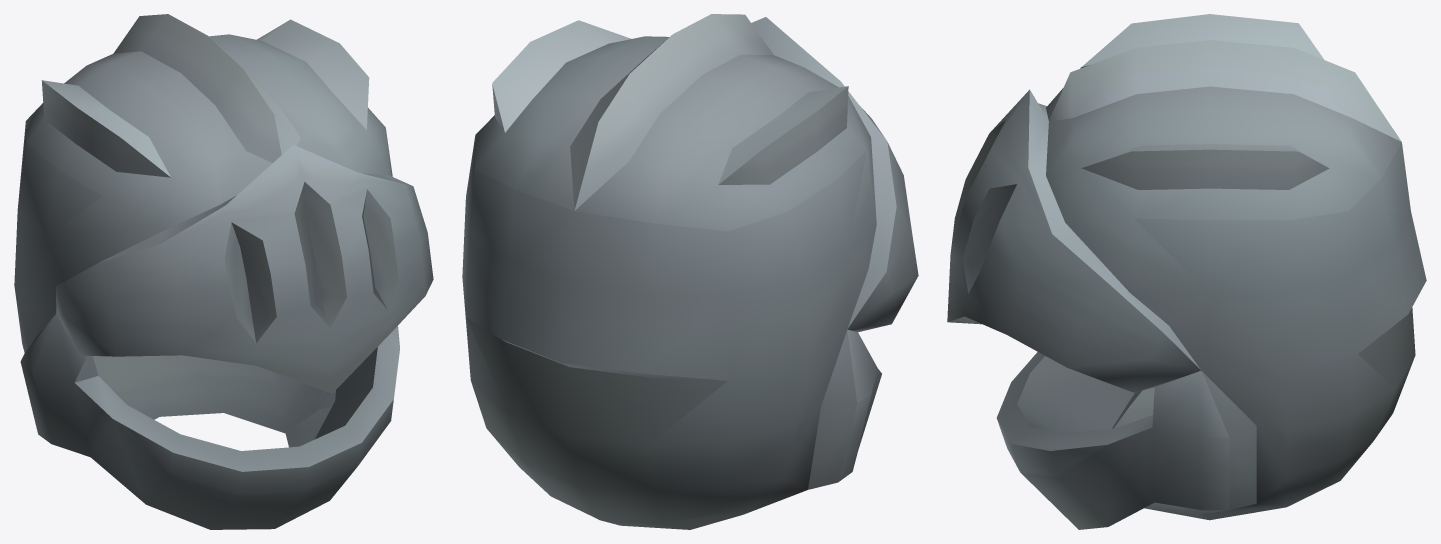
Rendered from knight_helmet.glb.
3 renders of one model, left to right at view 1: azimuth 30°, elevation 25°; view 2: azimuth 150°, elevation 25°; view 3: azimuth 270°, elevation 25°, orthographic. The views are drawn at different scales.
Parts seen in each view (by area): view 1: Knight_Helmet; view 2: Knight_Helmet; view 3: Knight_Helmet.
Part boxes in pixels (x1,y1,x2,y2): Knight_Helmet: (14,14,433,529); Knight_Helmet: (462,14,918,529); Knight_Helmet: (947,14,1426,529).
Bounding box in the file's own units: 1.14 × 1.36 × 1.25.
Materials: 1 (1 with a texture image).
